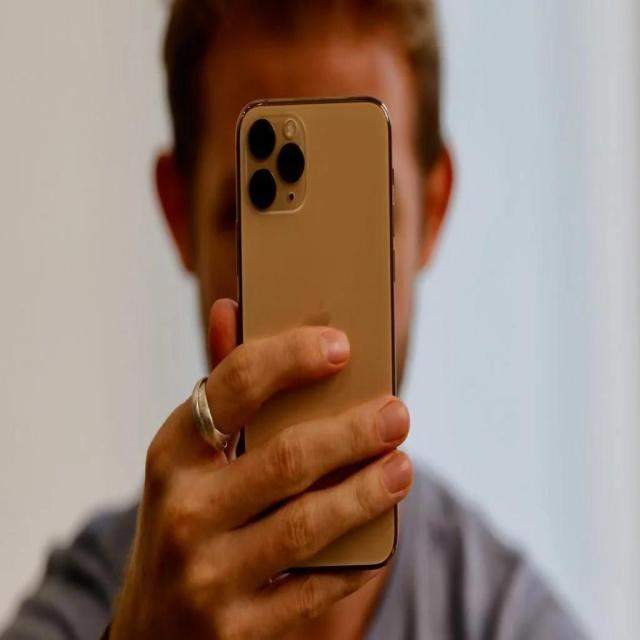Smartphone: (237, 97, 403, 571)
